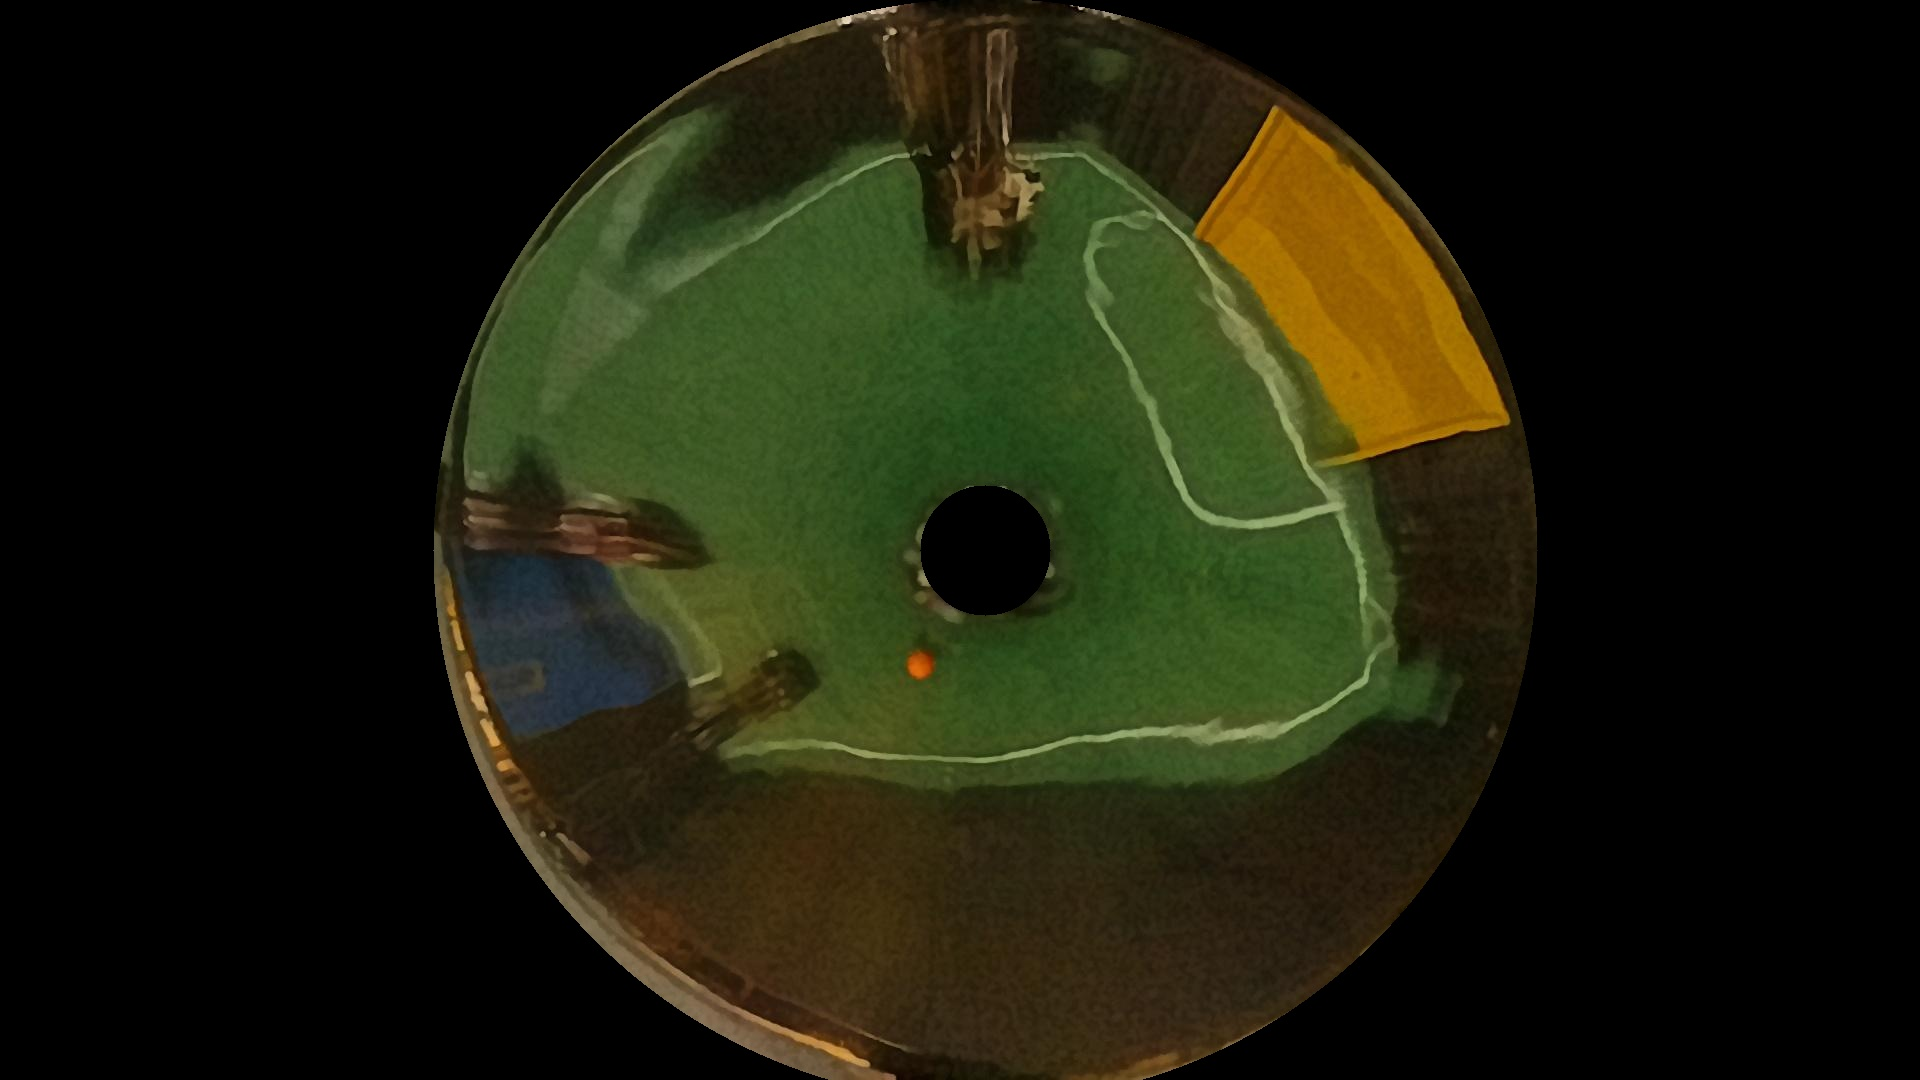ball: (907, 650, 938, 680)
blue-goal: (446, 491, 682, 728)
robots: (884, 0, 1064, 284), (442, 469, 712, 578), (676, 655, 833, 754)
yellow-goal: (1187, 104, 1519, 435)
